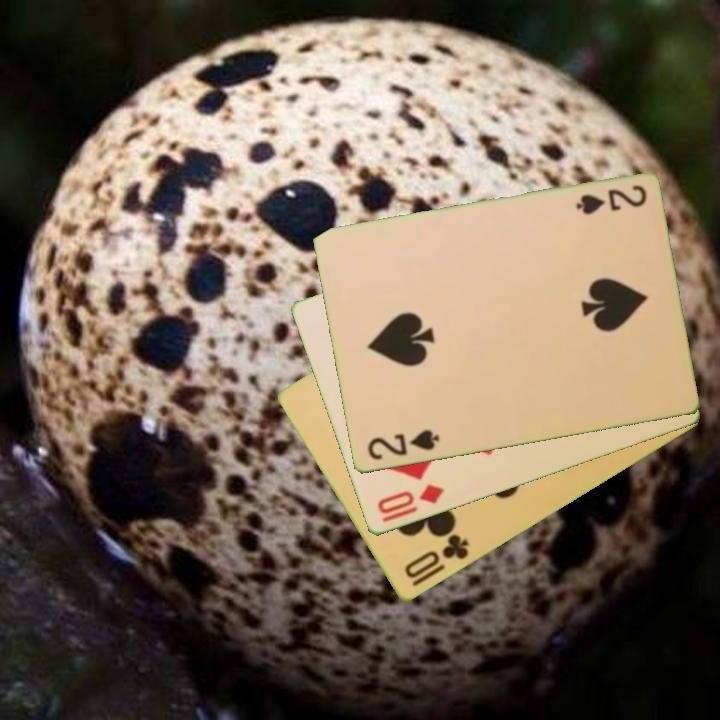10c: (400, 531, 472, 582)
10d: (373, 481, 448, 518)
2s: (363, 426, 442, 464), (572, 182, 650, 219)
